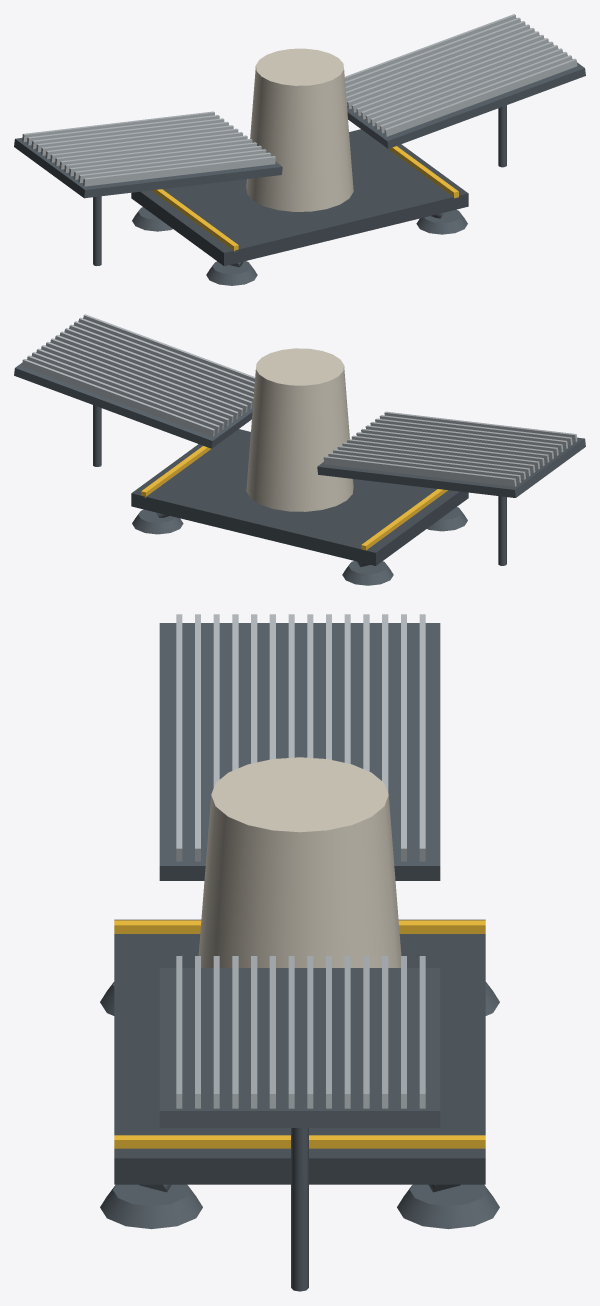
Rendered from base-boss-power-annex.glb.
3 renders of one model, top to bottom at view 1: azimuth 30°, elevation 25°; view 2: azimuth 150°, elevation 25°; view 3: azimuth 270°, elevation 25°, orthographic. The views are drawn at different scales.
Parts seen in each view (by area): view 1: _radiator-bank-panel-grey (×2), base-boss-power-annex-floor-grate, base-boss-power-annex-warm-ceramic-insulation, _radiator-bank-dark-steel (×2), base-boss-power-annex-dark-steel, base-boss-power-annex-hazard-yellow; view 2: _radiator-bank-panel-grey (×2), base-boss-power-annex-floor-grate, base-boss-power-annex-warm-ceramic-insulation, _radiator-bank-dark-steel (×2), base-boss-power-annex-dark-steel, base-boss-power-annex-hazard-yellow; view 3: _radiator-bank-dark-steel (×2), base-boss-power-annex-warm-ceramic-insulation, base-boss-power-annex-floor-grate, _radiator-bank-panel-grey (×2), base-boss-power-annex-dark-steel, base-boss-power-annex-hazard-yellow.
Boxes of the visible parts, x1,y1,x2,y2 form: _radiator-bank-panel-grey (×2): (22, 14, 577, 186); base-boss-power-annex-floor-grate: (131, 129, 468, 266); base-boss-power-annex-warm-ceramic-insulation: (246, 48, 353, 211); _radiator-bank-dark-steel (×2): (14, 18, 585, 198); base-boss-power-annex-dark-steel: (93, 105, 506, 285); base-boss-power-annex-hazard-yellow: (152, 146, 458, 251); _radiator-bank-panel-grey (×2): (22, 314, 577, 486); base-boss-power-annex-floor-grate: (131, 429, 468, 565); base-boss-power-annex-warm-ceramic-insulation: (246, 348, 353, 511); _radiator-bank-dark-steel (×2): (14, 318, 585, 497); base-boss-power-annex-dark-steel: (93, 405, 506, 585); base-boss-power-annex-hazard-yellow: (141, 446, 447, 550); _radiator-bank-dark-steel (×2): (159, 623, 440, 1127); base-boss-power-annex-warm-ceramic-insulation: (198, 757, 401, 967); base-boss-power-annex-floor-grate: (114, 919, 485, 1184); _radiator-bank-panel-grey (×2): (176, 614, 425, 1108); base-boss-power-annex-dark-steel: (100, 954, 499, 1291); base-boss-power-annex-hazard-yellow: (114, 920, 485, 1148).
Bounding box in the file's own units: 7.18 × 2.12 × 2.48.
